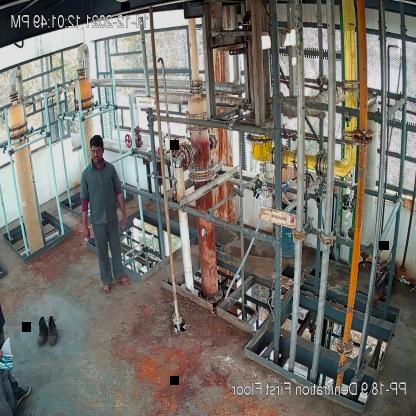no_shoes: (116, 276, 132, 285), (102, 284, 113, 296)
shoes: (45, 314, 59, 347), (36, 317, 48, 345)
